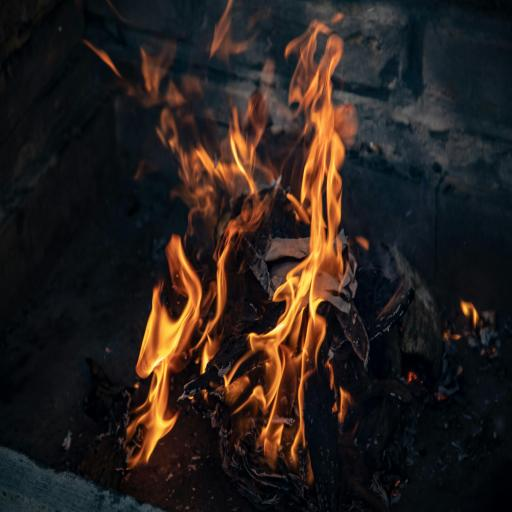campfire: (88, 31, 458, 480)
